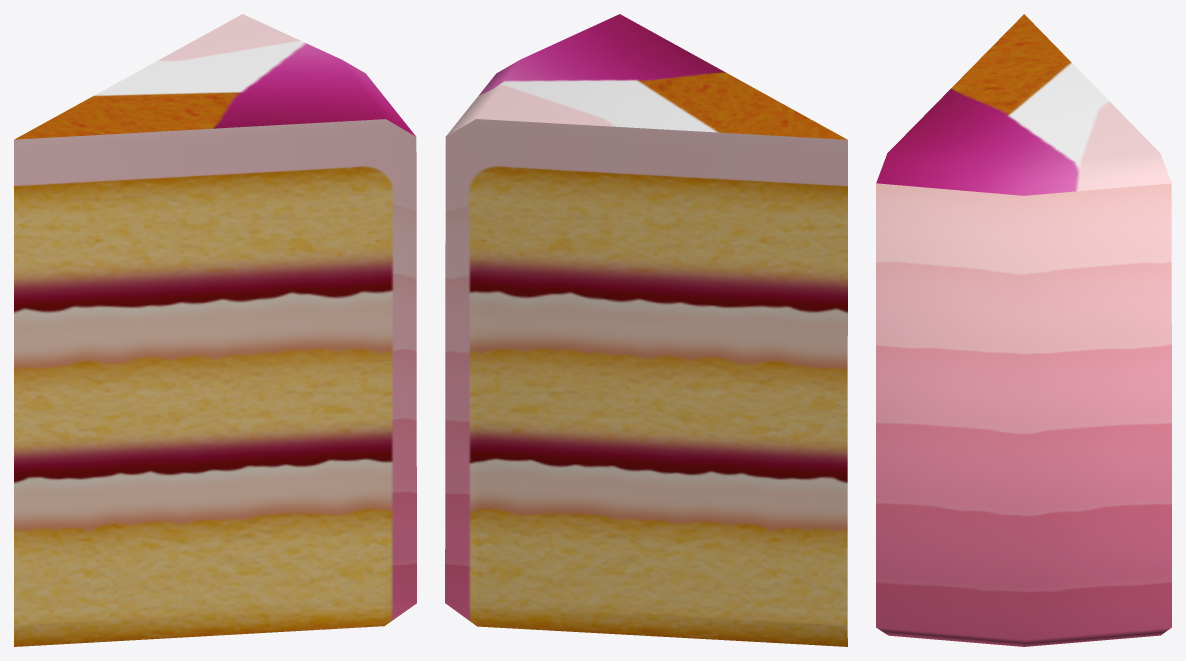
The model's file is Wedding_02_Slice_Middle.fbx.
3 views of the same model, side by side, from view 1: azimuth 30°, elevation 25°; view 2: azimuth 150°, elevation 25°; view 3: azimuth 270°, elevation 25° (orthographic). The views are drawn at different scales.
Parts seen in each view (by area): view 1: Wedding_02_Slice_Middle; view 2: Wedding_02_Slice_Middle; view 3: Wedding_02_Slice_Middle.
Part boxes in pixels (x1,y1,x2,y2): Wedding_02_Slice_Middle: (14, 14, 416, 646); Wedding_02_Slice_Middle: (445, 14, 847, 646); Wedding_02_Slice_Middle: (876, 14, 1171, 646).
Bounding box in the file's own units: 44.63 × 61.52 × 34.19.
